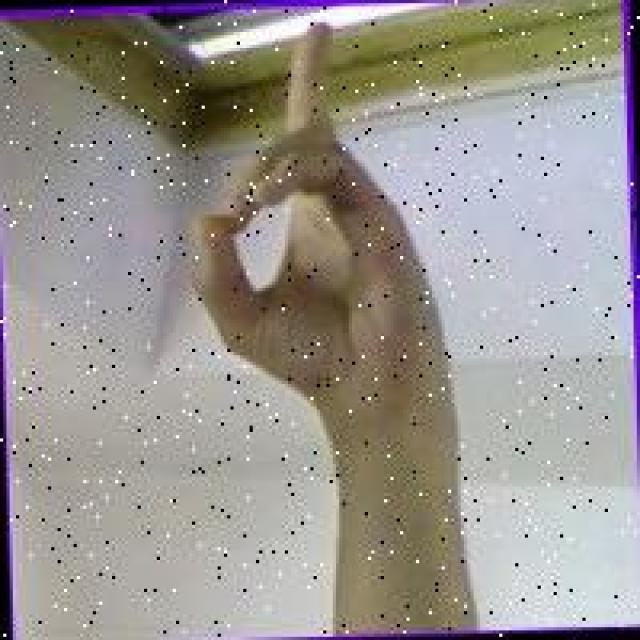D: (178, 8, 452, 494)
